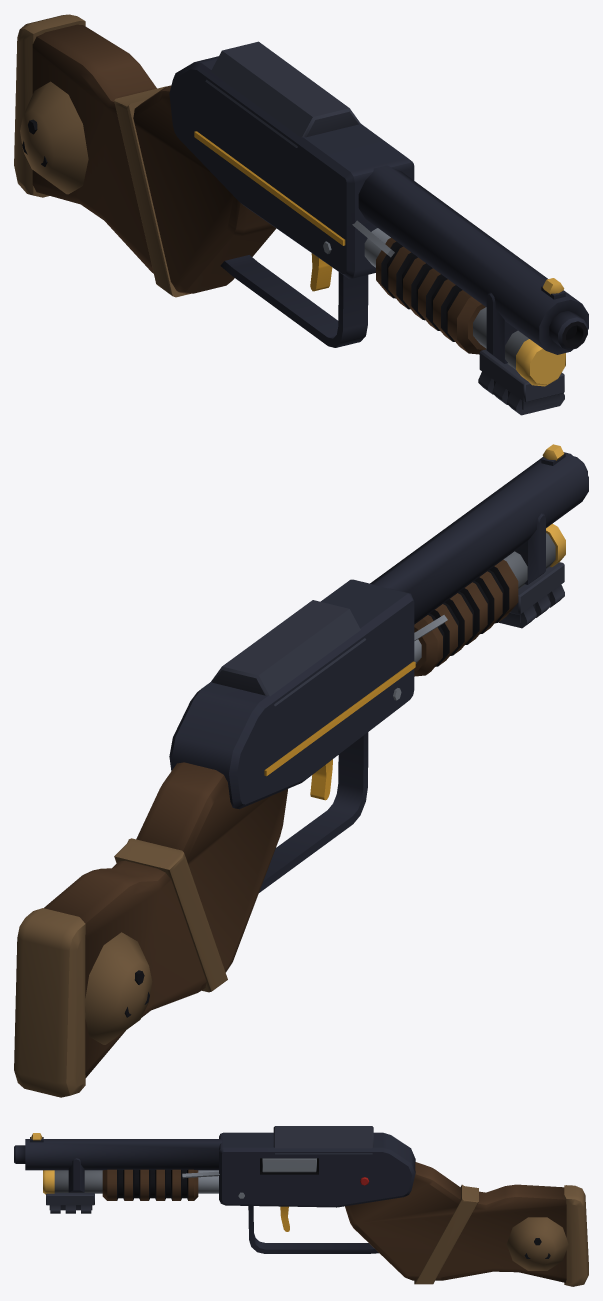
The model's file is coconut_cracker.glb.
3 views of the same model, one above another, from view 1: azimuth 30°, elevation 25°; view 2: azimuth 150°, elevation 25°; view 3: azimuth 270°, elevation 25° (orthographic). The views are drawn at different scales.
Parts seen in each view (by area): view 1: frame, fore_end, tube; view 2: frame, fore_end, tube; view 3: frame, fore_end, tube.
Boxes of the visible parts, <box> form: frame: <box>14,14,588,415</box>; fore_end: <box>352,220,486,354</box>; tube: <box>364,228,565,386</box>; frame: <box>14,444,588,1097</box>; fore_end: <box>414,559,518,676</box>; tube: <box>414,523,565,663</box>; frame: <box>14,1126,588,1286</box>; fore_end: <box>102,1169,219,1200</box>; tube: <box>43,1170,218,1194</box>.
Size of the model in its own units: 0.31 by 0.7319 by 2.53.
Materials: 1 (1 with a texture image).
